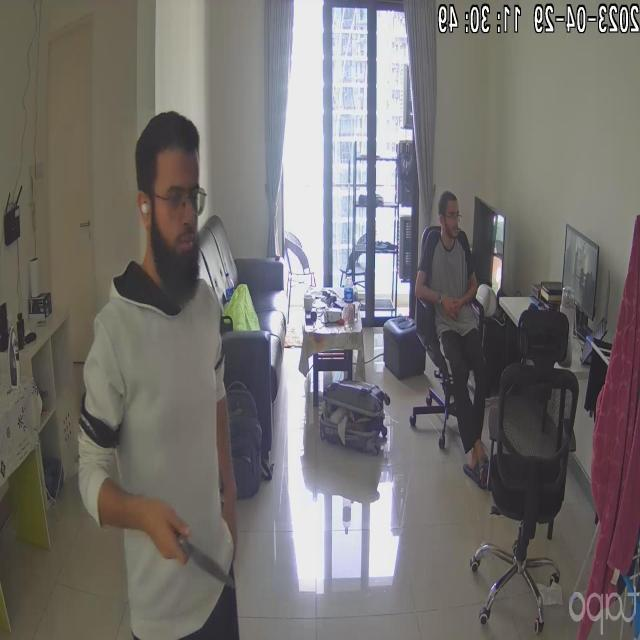Knife: (164, 521, 238, 590)
